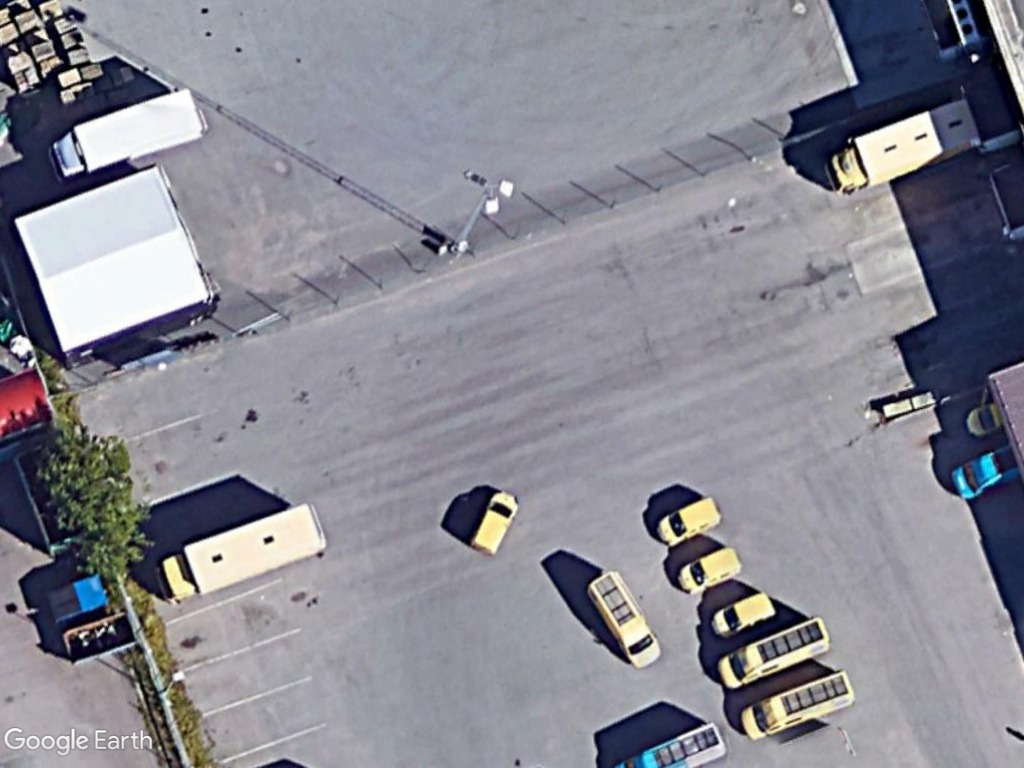truck: (155, 498, 335, 606), (46, 82, 212, 182), (820, 97, 983, 198)
van: (713, 612, 835, 694), (737, 668, 858, 743), (585, 568, 664, 669), (654, 491, 725, 552), (674, 542, 744, 599), (467, 488, 523, 559), (707, 589, 780, 639)
